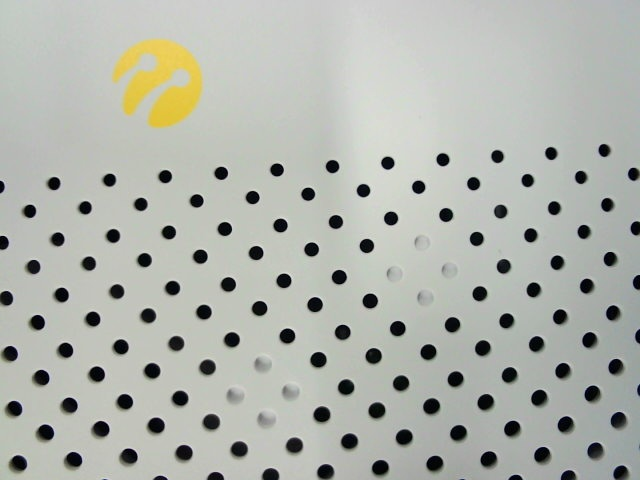AV_H3600Yellow: (99, 27, 217, 137)
